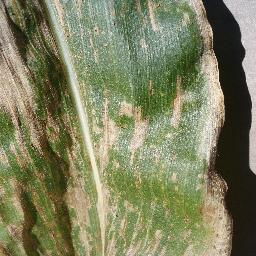Gray_Leaf_Spot: (0, 0, 227, 254)
